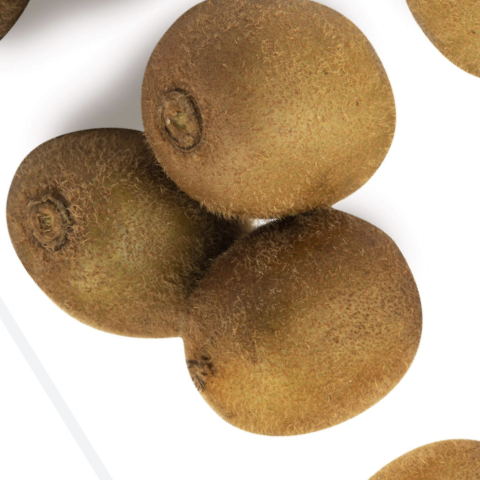kiwi: (74, 0, 455, 300), (135, 153, 480, 480), (0, 43, 292, 382)
